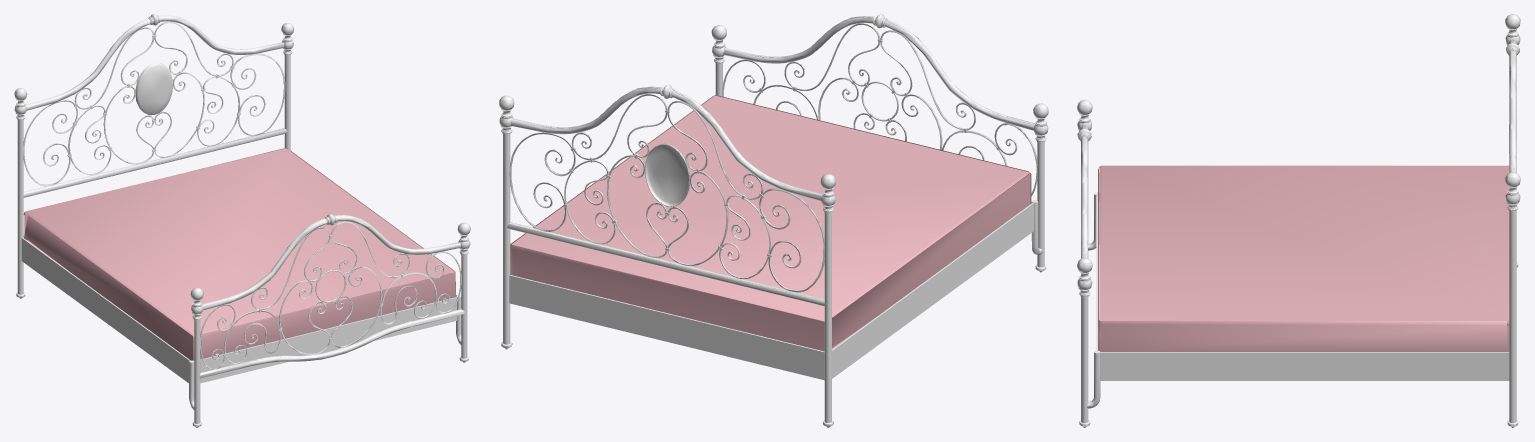
Rendered from bed-16.glb.
The picture shows the model from 3 angles, left to right: view 1: azimuth 30°, elevation 25°; view 2: azimuth 150°, elevation 25°; view 3: azimuth 270°, elevation 25°; orthographic projection. The views are drawn at different scales.
Visible parts, largest first — view 1: PrincessBed_001_Matratze_0, PrincessBed_001_MetallWeiss_0; view 2: PrincessBed_001_Matratze_0, PrincessBed_001_MetallWeiss_0; view 3: PrincessBed_001_Matratze_0, PrincessBed_001_MetallWeiss_0.
Boxes of the visible parts, left/top/right/bottom form: PrincessBed_001_Matratze_0: left=23, top=148, right=455, bottom=360; PrincessBed_001_MetallWeiss_0: left=14, top=14, right=470, bottom=427; PrincessBed_001_Matratze_0: left=510, top=95, right=1031, bottom=351; PrincessBed_001_MetallWeiss_0: left=499, top=14, right=1048, bottom=427; PrincessBed_001_Matratze_0: left=1098, top=165, right=1509, bottom=351; PrincessBed_001_MetallWeiss_0: left=1077, top=14, right=1520, bottom=427.
Size of the model in its own units: 11.58 by 10.01 by 13.19.
